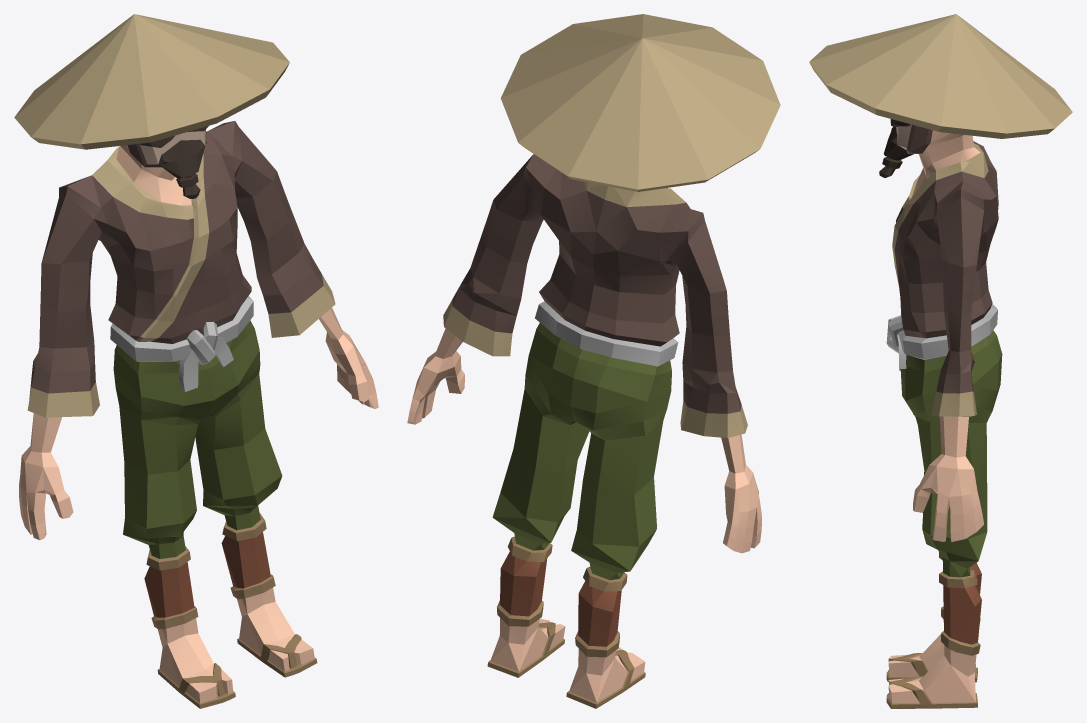
The model's file is Villager (1) 1.fbx.
The picture shows the model from 3 angles, left to right: view 1: azimuth 30°, elevation 25°; view 2: azimuth 150°, elevation 25°; view 3: azimuth 270°, elevation 25°; orthographic projection. The views are drawn at different scales.
Parts seen in each view (by area): view 1: SK_Character_Village_Man; view 2: SK_Character_Village_Man; view 3: SK_Character_Village_Man.
Boxes of the visible parts, x1,y1,x2,y2 form: SK_Character_Village_Man: [14, 14, 378, 708]; SK_Character_Village_Man: [407, 14, 780, 708]; SK_Character_Village_Man: [809, 14, 1072, 708].
Bounding box in the file's own units: 99.4 × 187 × 69.5.
